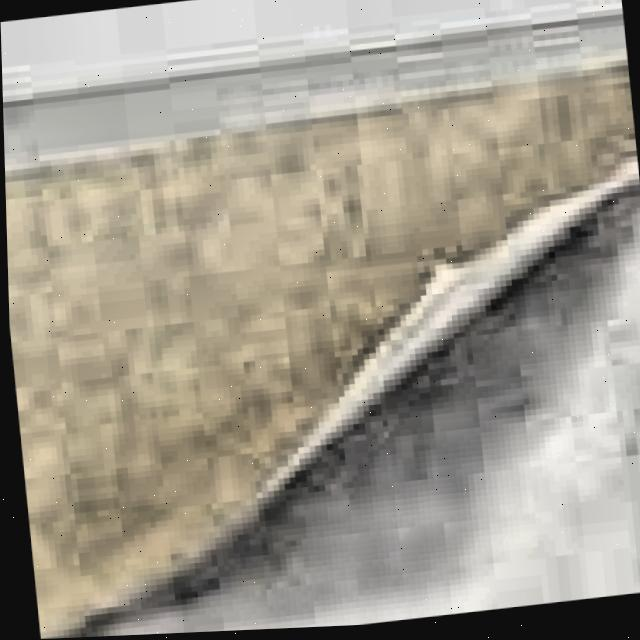paper: (1, 0, 640, 639), (2, 18, 640, 639), (4, 63, 640, 639)
